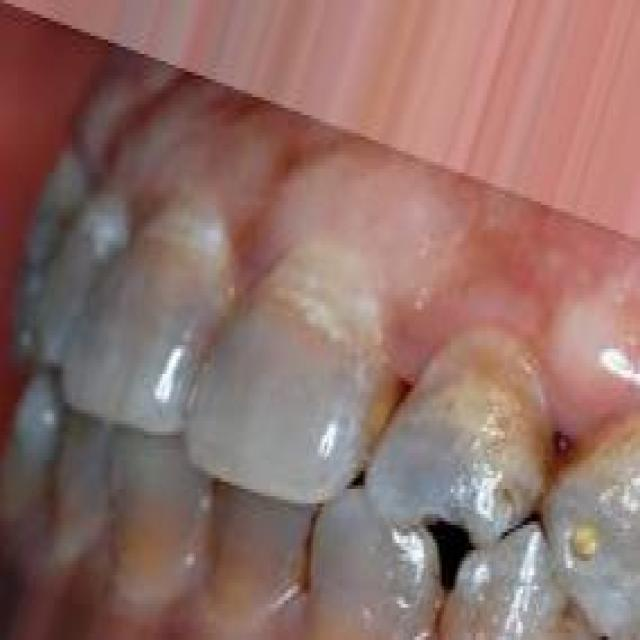caries: (561, 502, 614, 584)
